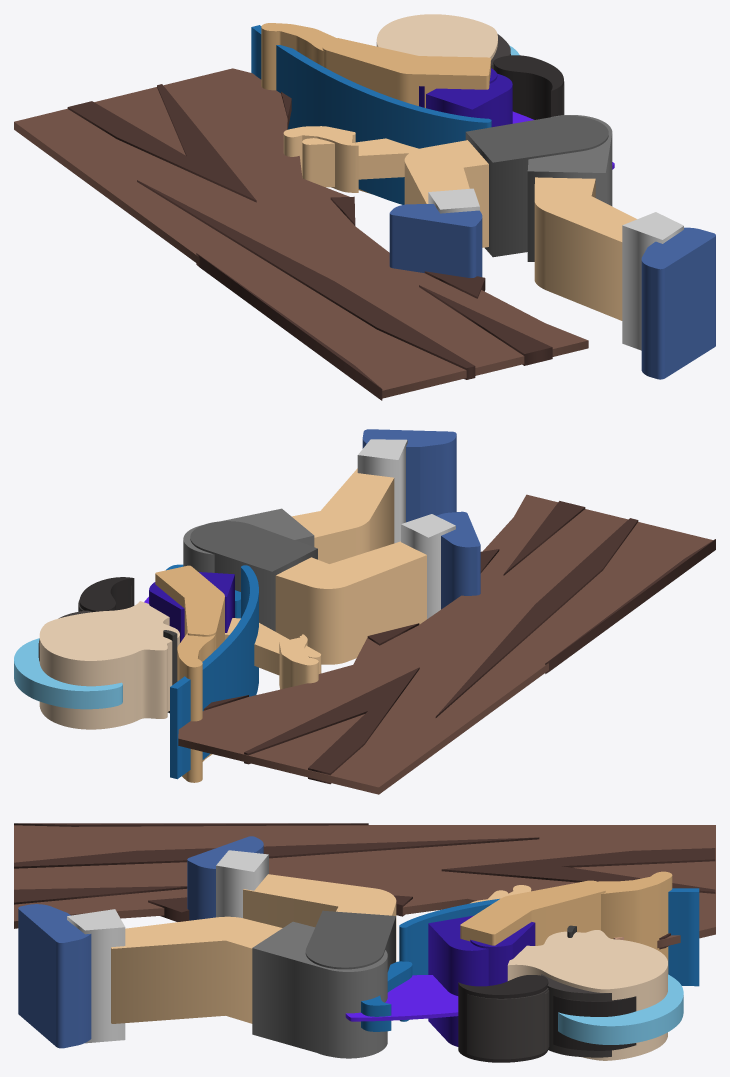
The model's file is emoji_u1f9d7_1f3fb_200d_2640.glb.
3 views of the same model, one above another, from view 1: azimuth 30°, elevation 25°; view 2: azimuth 150°, elevation 25°; view 3: azimuth 270°, elevation 25° (orthographic). The views are drawn at different scales.
Visible parts, largest first — view 1: emoji_u1f9d7_1f3fb_200d_2640; view 2: emoji_u1f9d7_1f3fb_200d_2640; view 3: emoji_u1f9d7_1f3fb_200d_2640.
Part boxes in pixels (left/top/right/bottom): emoji_u1f9d7_1f3fb_200d_2640: left=14, top=14, right=715, bottom=400; emoji_u1f9d7_1f3fb_200d_2640: left=14, top=429, right=715, bottom=794; emoji_u1f9d7_1f3fb_200d_2640: left=14, top=823, right=715, bottom=1062.
Size of the model in its own units: 0.0236 by 0.0066 by 0.0338.
